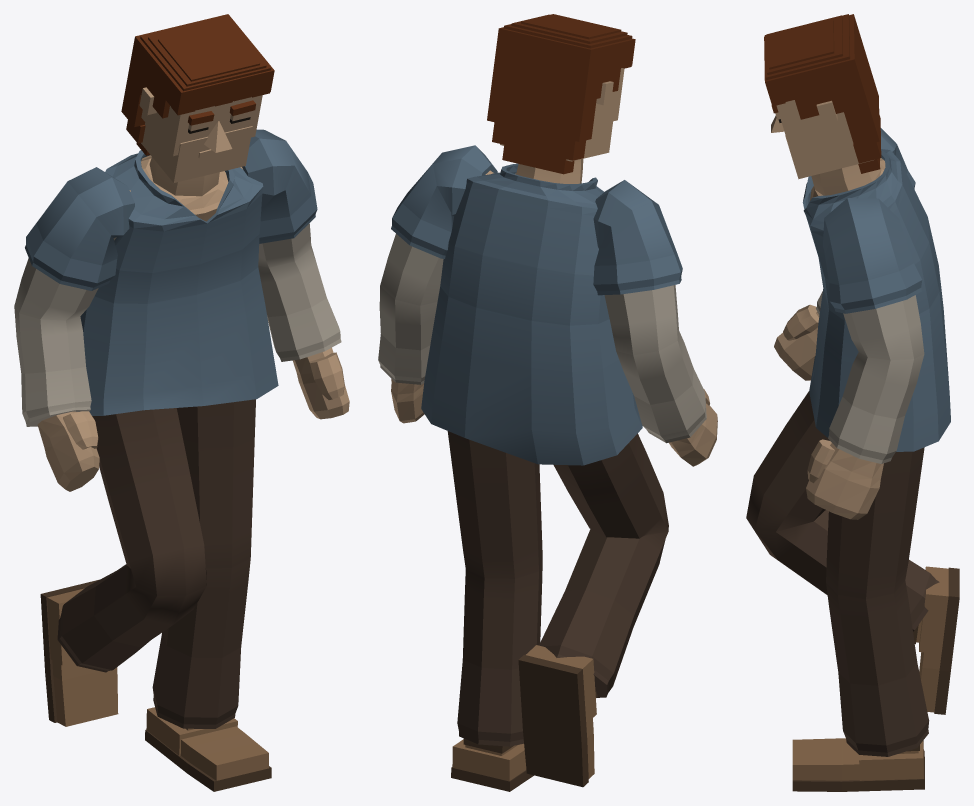
File: suburban-resident-a9db9c__walk2.glb
3 views of the same model, side by side, from view 1: azimuth 30°, elevation 25°; view 2: azimuth 150°, elevation 25°; view 3: azimuth 270°, elevation 25° (orthographic). The views are drawn at different scales.
Parts seen in each view (by area): view 1: suburban-resident-a9db9c__walk2; view 2: suburban-resident-a9db9c__walk2; view 3: suburban-resident-a9db9c__walk2.
Part boxes in pixels (x1,y1,x2,y2): suburban-resident-a9db9c__walk2: (14, 14, 349, 791); suburban-resident-a9db9c__walk2: (378, 14, 717, 791); suburban-resident-a9db9c__walk2: (746, 14, 959, 791).
Bounding box in the file's own units: 0.7738 × 1.72 × 0.4568.
